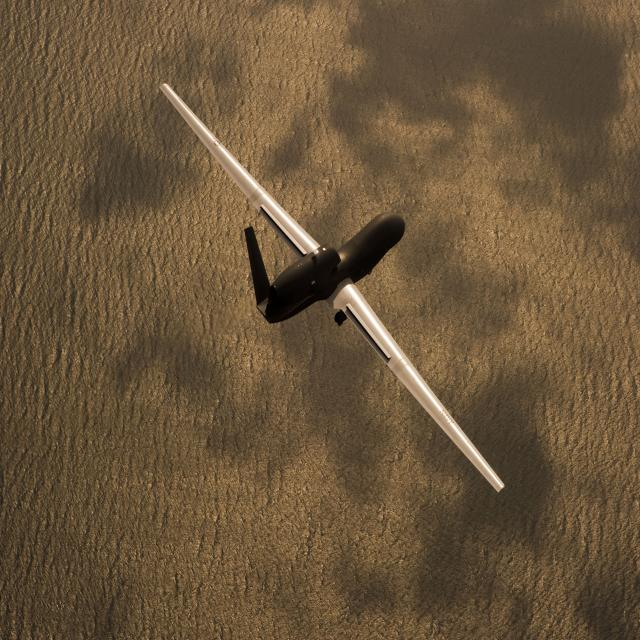MIL_Plane: (158, 83, 506, 493)
